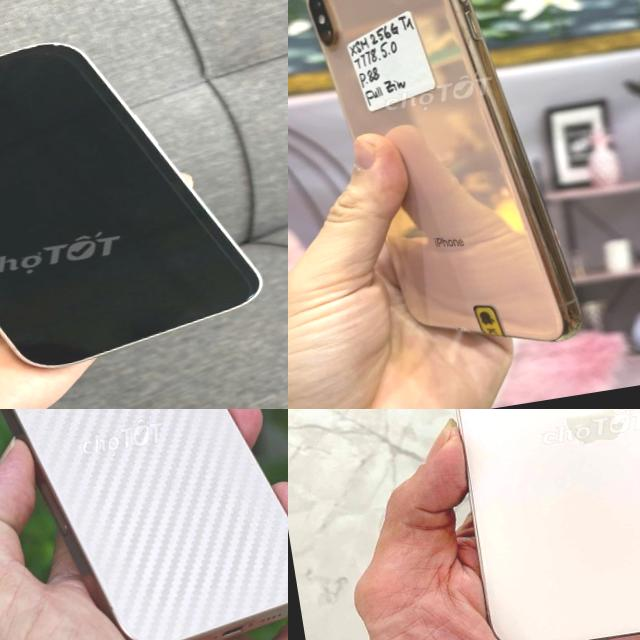gen_12_13: (423, 409, 640, 640)
gen_16: (1, 409, 288, 640)
gen_17: (0, 10, 288, 396)
gen_x_xs: (288, 0, 616, 387)
